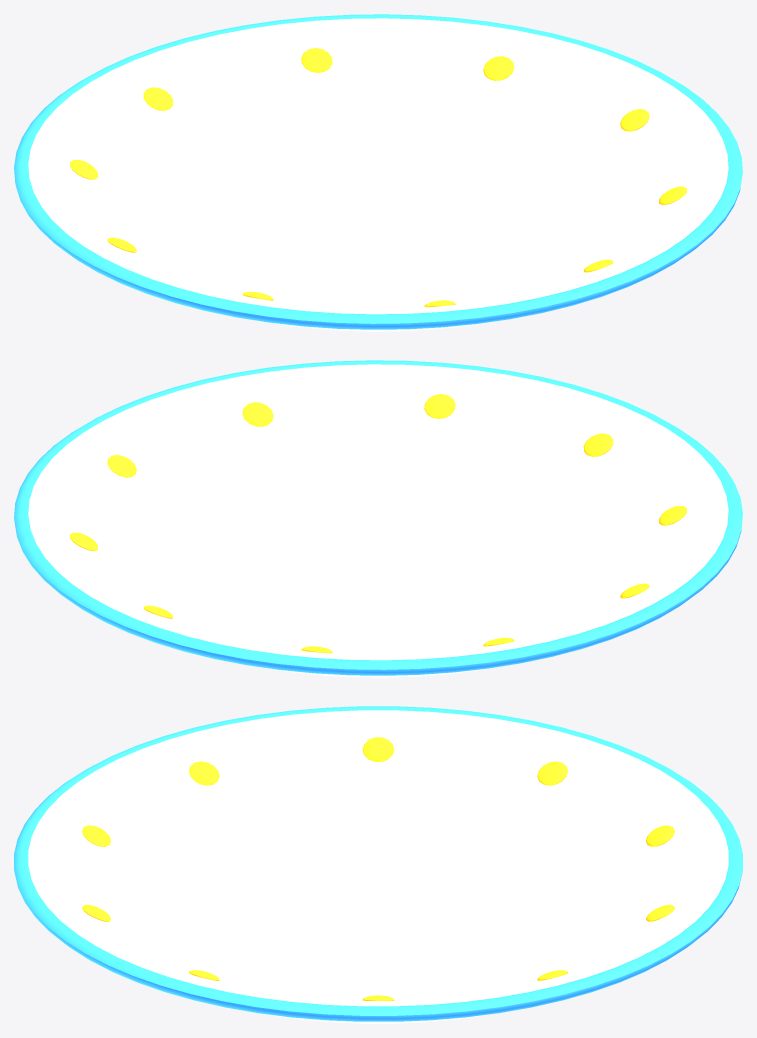
3 renders of one model, top to bottom at view 1: azimuth 30°, elevation 25°; view 2: azimuth 150°, elevation 25°; view 3: azimuth 270°, elevation 25°, orthographic.
Visible parts, largest first — view 1: Plate-whole; view 2: Plate-whole; view 3: Plate-whole.
Part boxes in pixels (box(x1,y1,x2,y2)): Plate-whole: box(14, 14, 742, 331); Plate-whole: box(14, 360, 742, 677); Plate-whole: box(14, 706, 742, 1023).
Bounding box in the file's own units: 0.1388 × 0.0152 × 0.1388.
